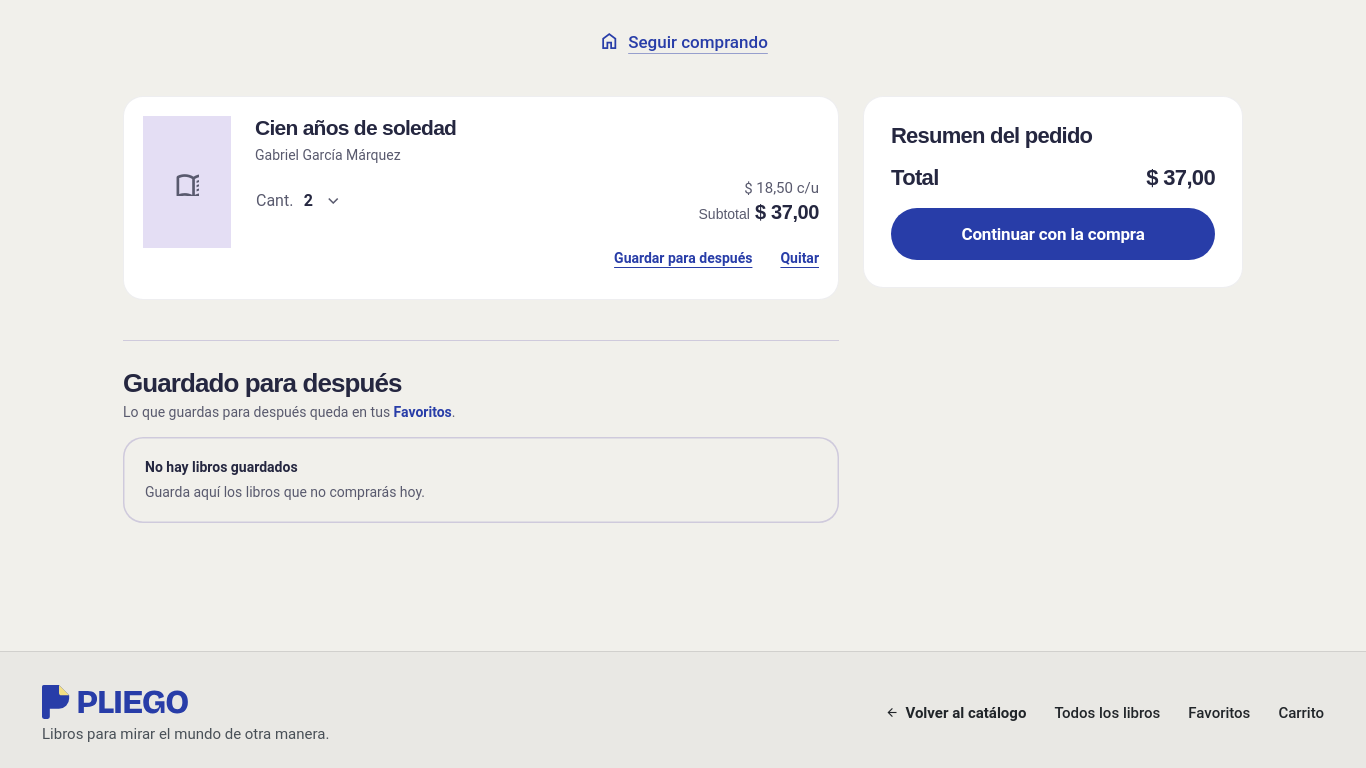
Scenario: CartPage › reconciles an unknown undo outcome with reads without repeating an additive write
Click the button with aria-label "Quitar Cien años de soledad del carrito" at coordinates (800, 258), box [780,236,819,280]
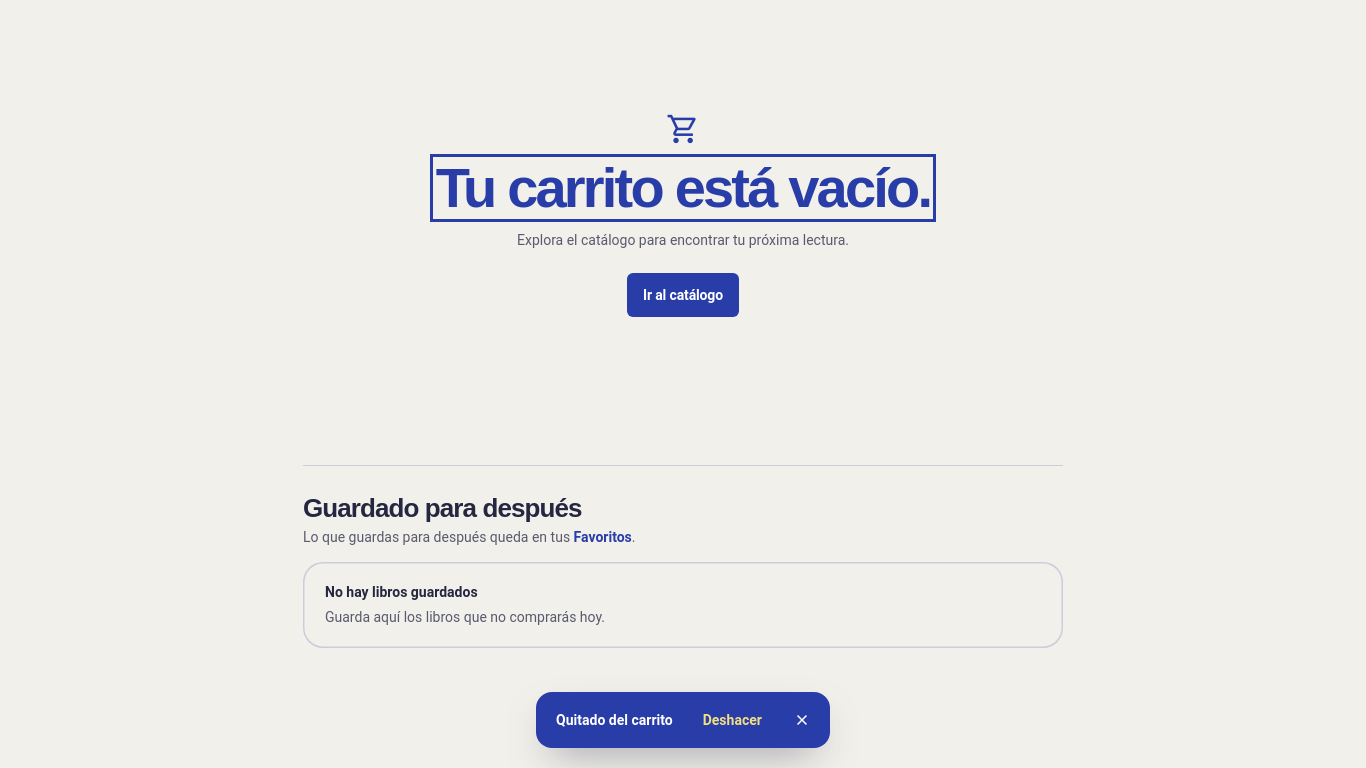
Click the button "Deshacer" at coordinates (732, 720), box [689,698,776,742]
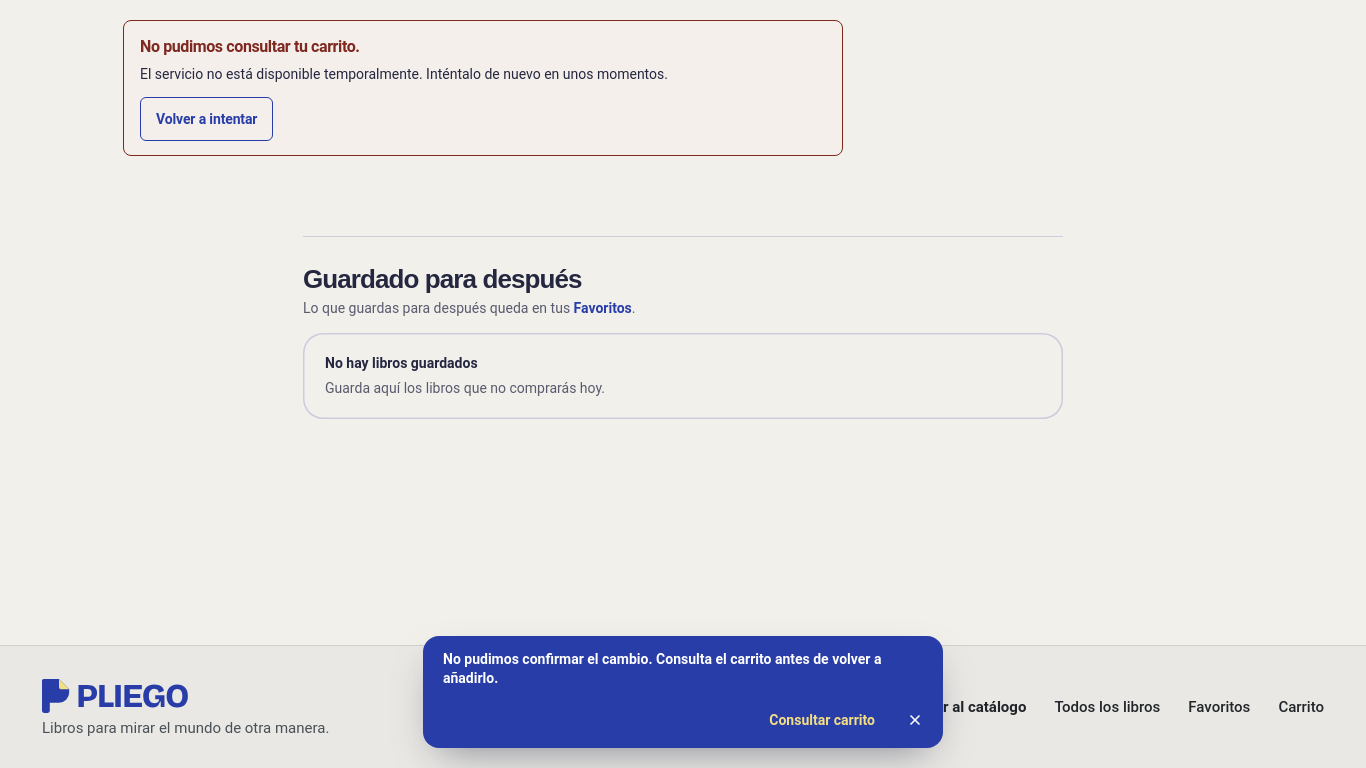
Click the button "Consultar carrito" at coordinates (822, 720), box [755,698,889,742]
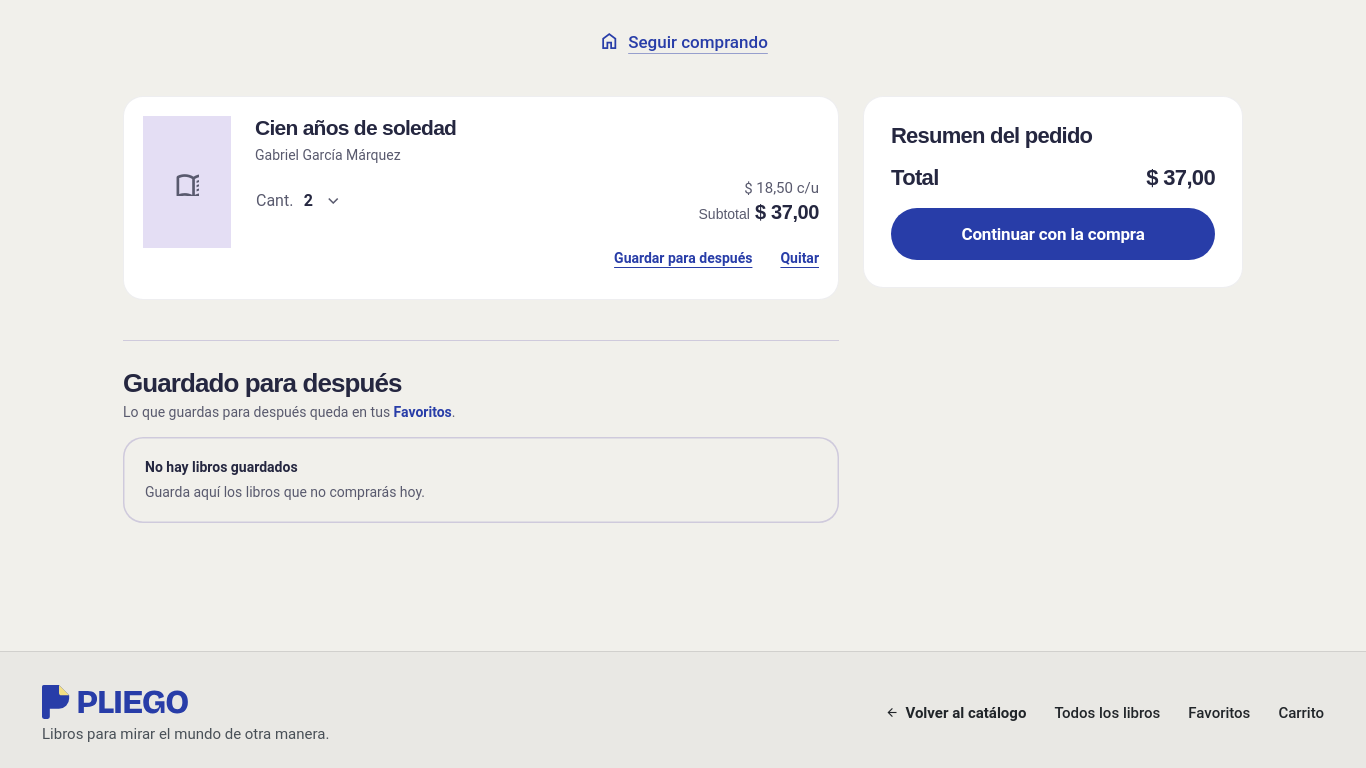
Expected: the button "Deshacer" is not shown
Result: the link "Cien años de soledad" is shown at [255,116,456,139]
